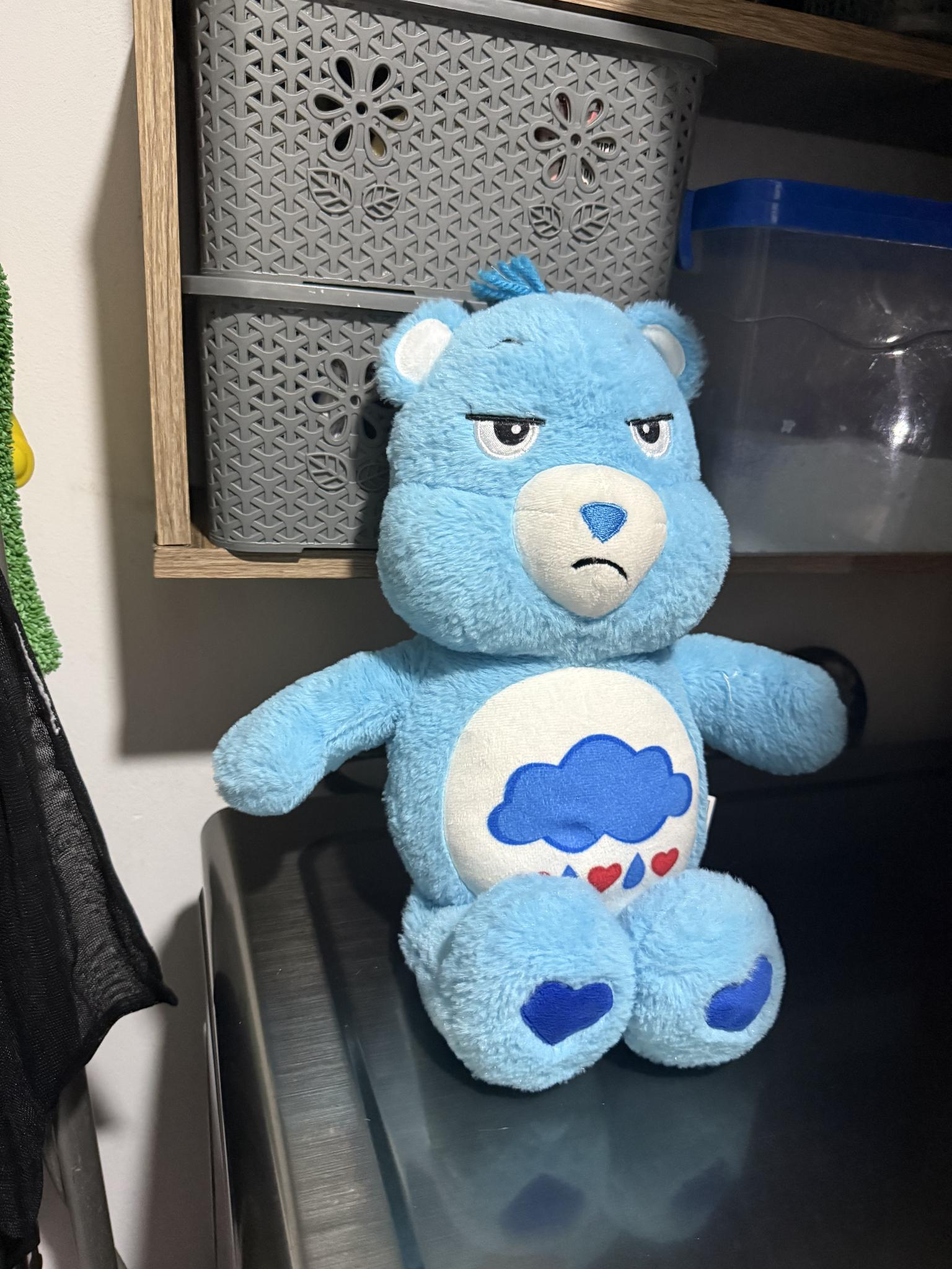peluche_Juan Jose: (211, 273, 853, 1093)
